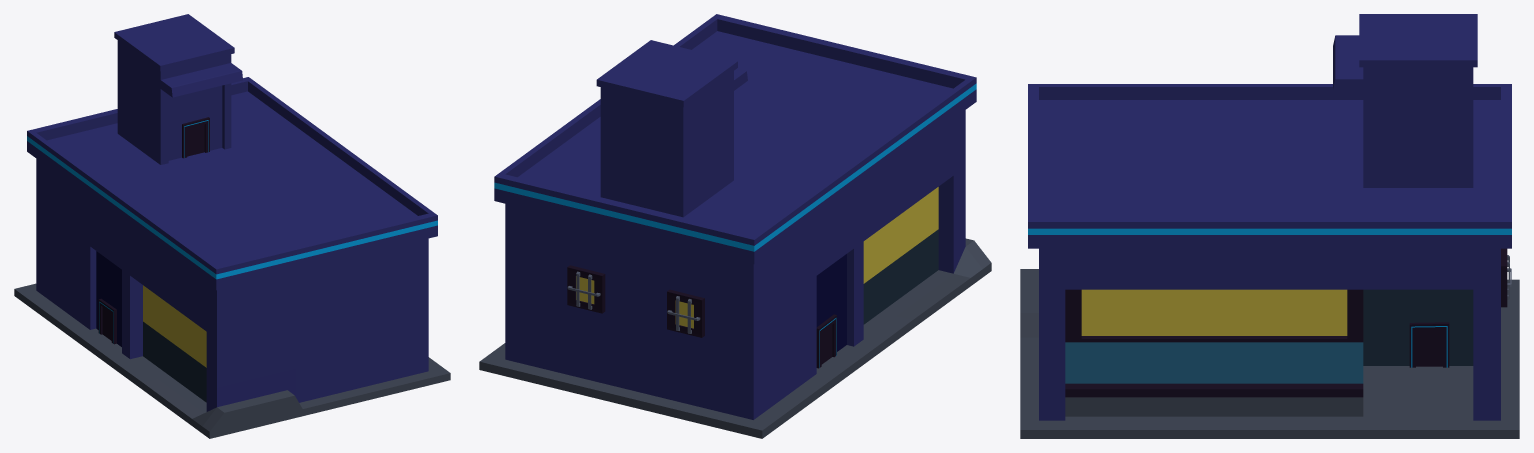
Rendered from Building_Small01.fbx.
3 renders of one model, left to right at view 1: azimuth 30°, elevation 25°; view 2: azimuth 150°, elevation 25°; view 3: azimuth 270°, elevation 25°, orthographic. The views are drawn at different scales.
Parts seen in each view (by area): view 1: low home; view 2: low home; view 3: low home.
Boxes of the visible parts, bbox=[...] form: low home: bbox=[14, 14, 450, 438]; low home: bbox=[479, 14, 991, 438]; low home: bbox=[1020, 14, 1519, 438].
Bounding box in the file's own units: 1138 × 1154 × 1598.
